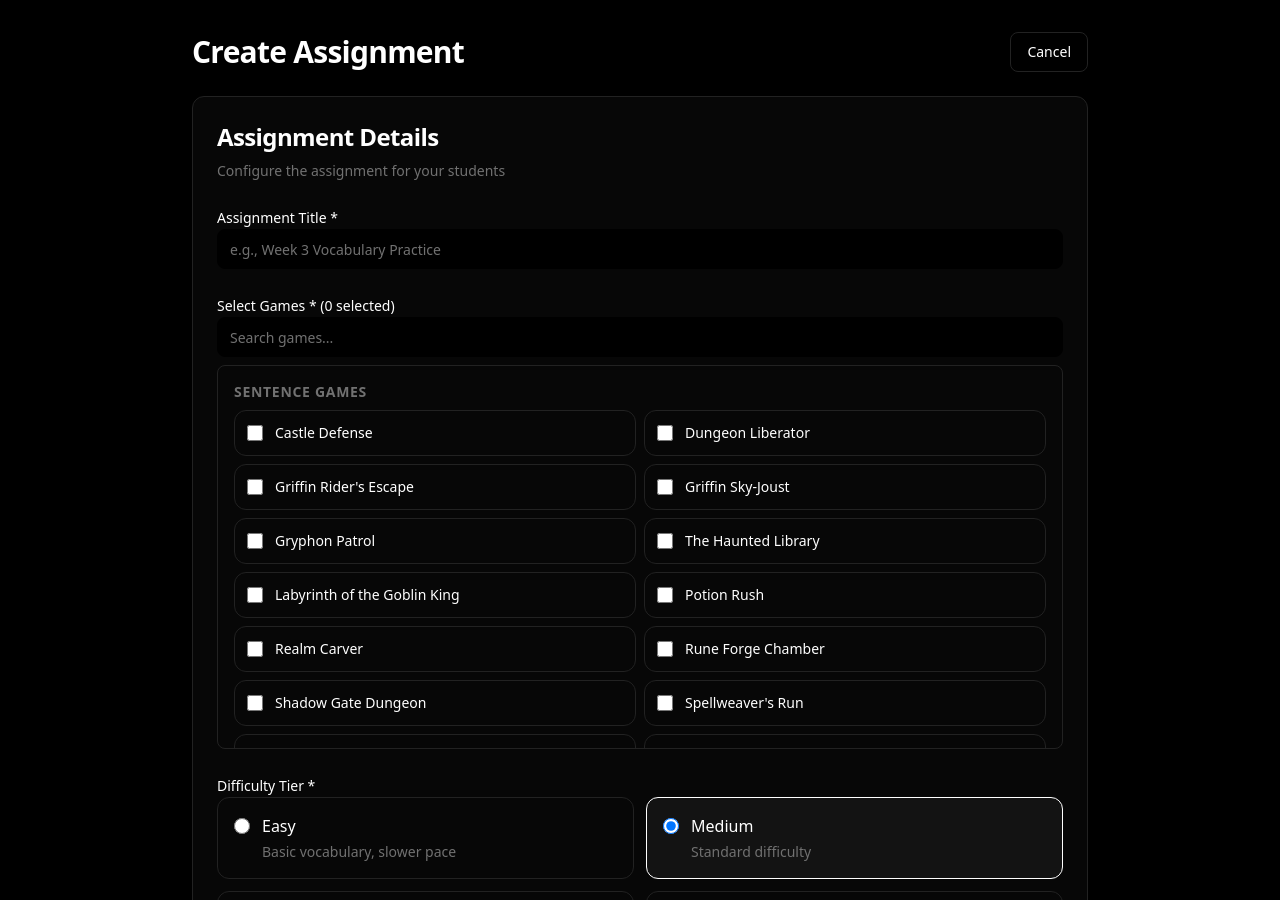
it: NewAssignmentClient › filters games by search
This screenshot has width=1280, height=900.
Check: the heading "Create Assignment" is shown, box x1=192 y1=34 x2=464 y2=70
Type "dragon" into the field with placeholder "Search games..." at coordinates (640, 337), box x1=217 y1=317 x2=1063 y2=357
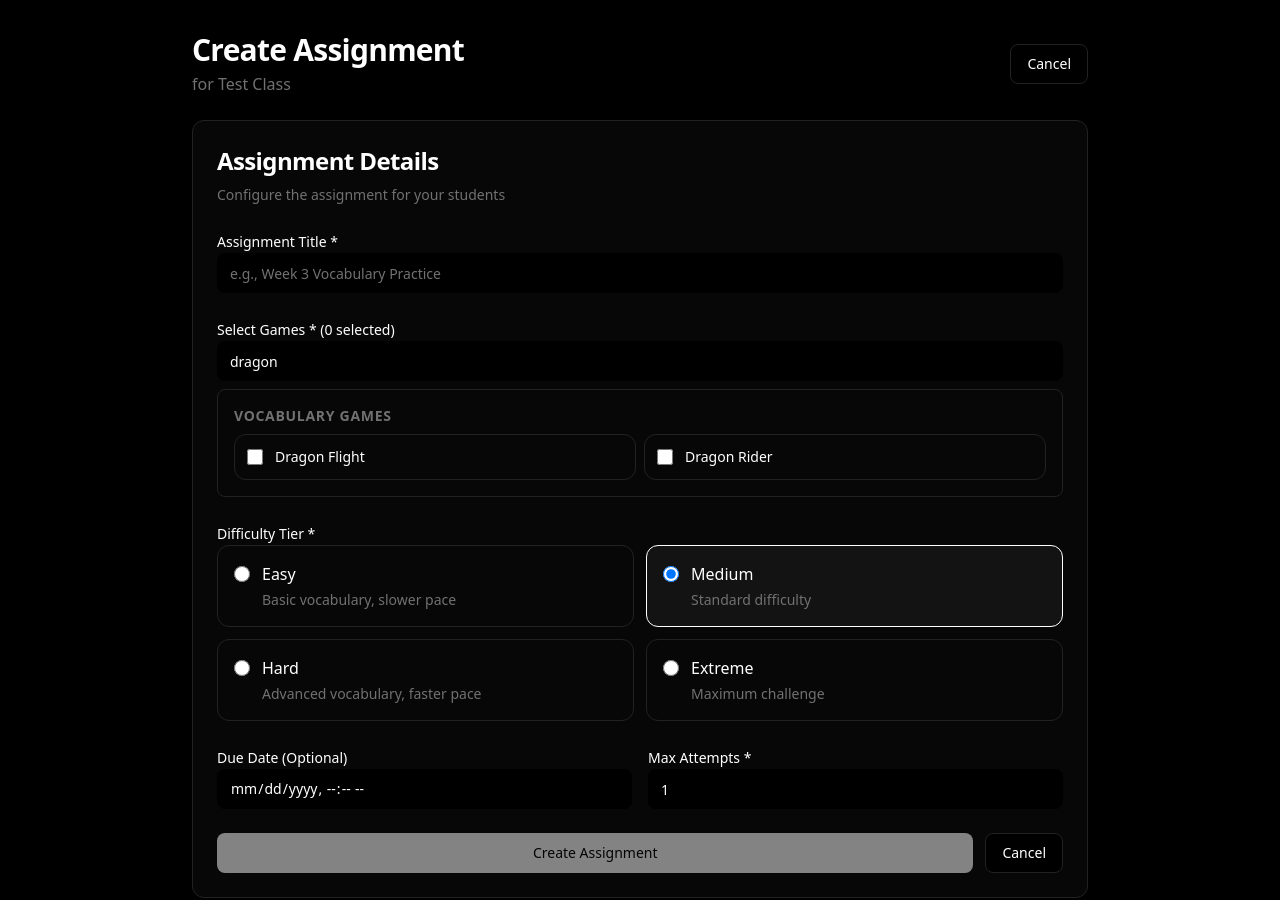
Check: the checkbox labelled "Dragon Flight" is shown, box x1=247 y1=449 x2=263 y2=465
Check: the text labelled "Castle Defense" is gone
